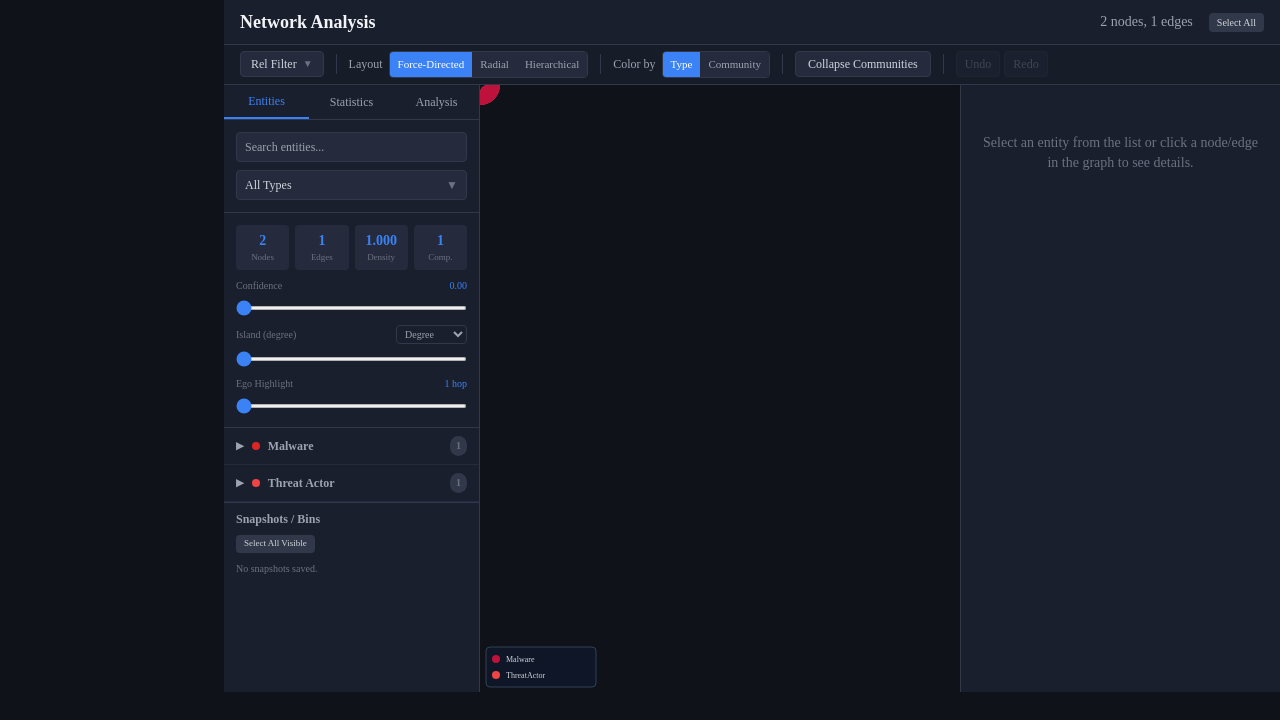
it: network page › hides a relationship type and undoes it
Check: the text "2 nodes, 1 edges" is shown, box [1100, 12, 1193, 32]
Click the button "Rel Filter ▼" at (282, 64), box [240, 51, 324, 77]
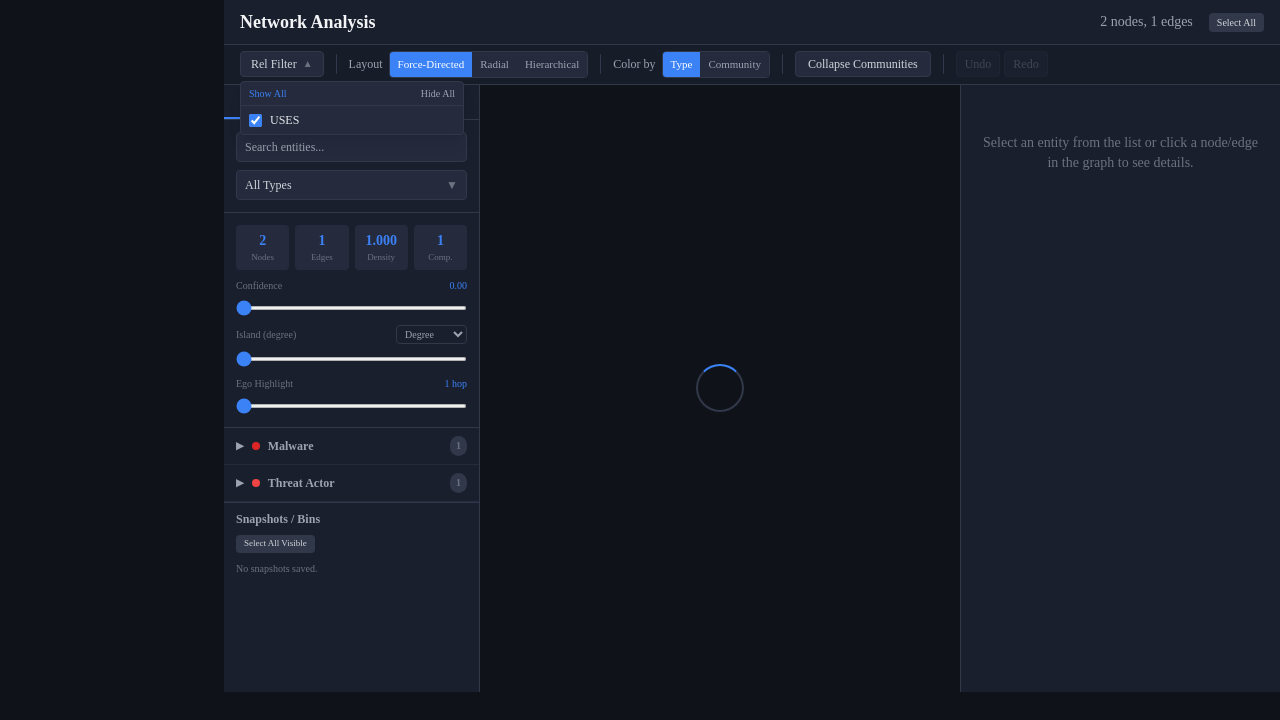
Click the checkbox labelled "USES" at (256, 120), box [249, 114, 262, 127]
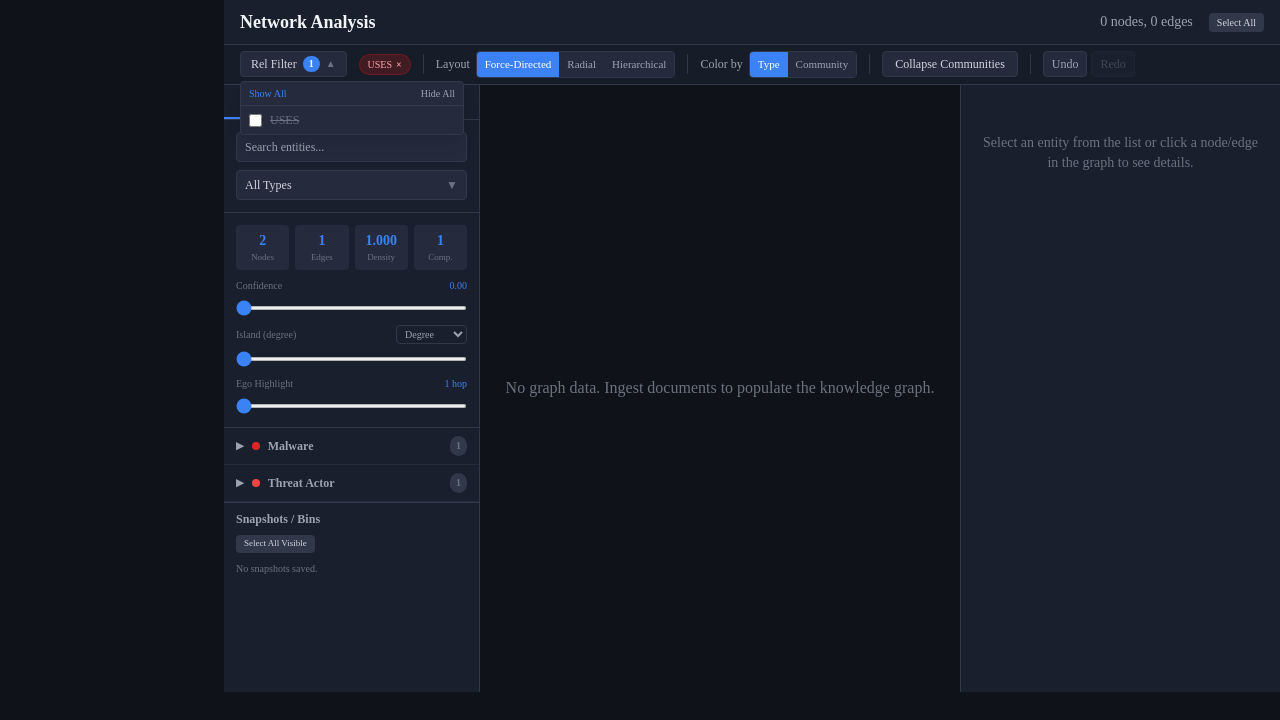
Check: the text "0 nodes, 0 edges" is shown, box [1100, 12, 1193, 32]
Click the button "Undo" at (1065, 64), box [1043, 51, 1088, 77]
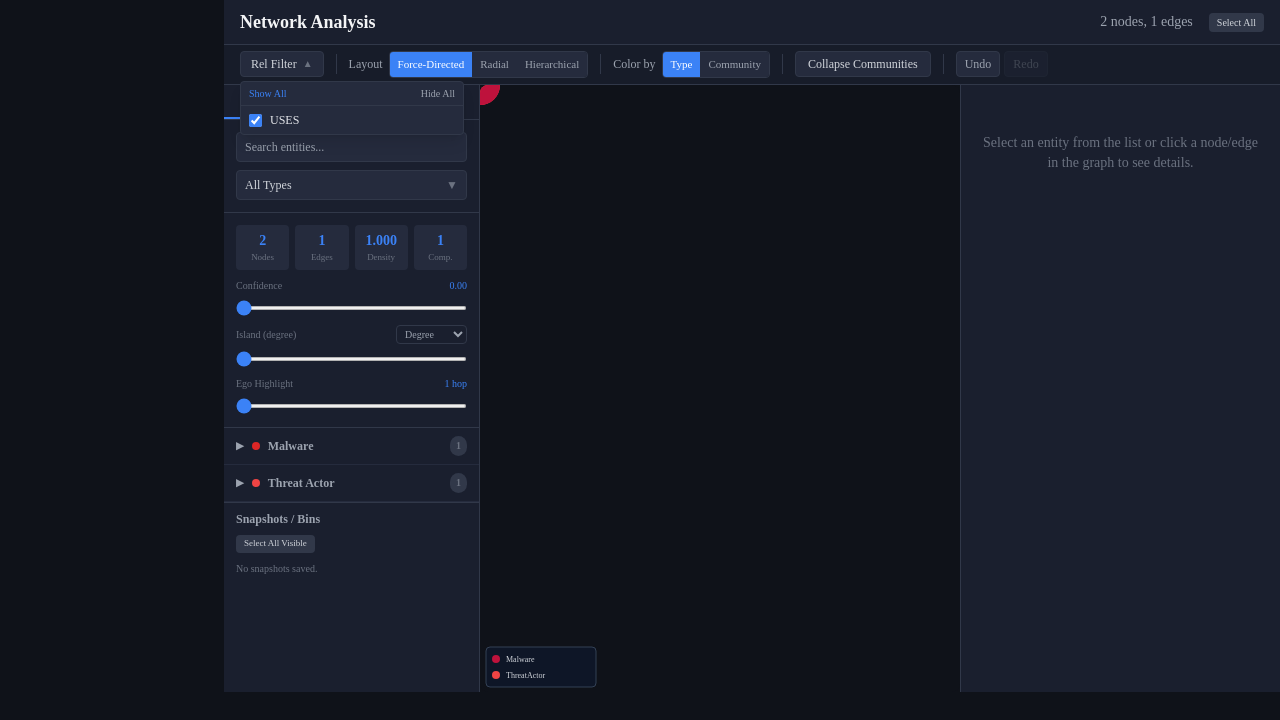
Check: the text "2 nodes, 1 edges" is shown, box [1100, 12, 1193, 32]
